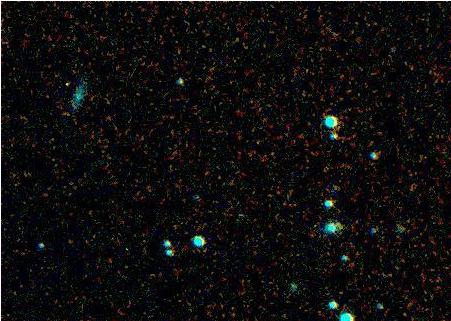star: (52, 69, 82, 99)
